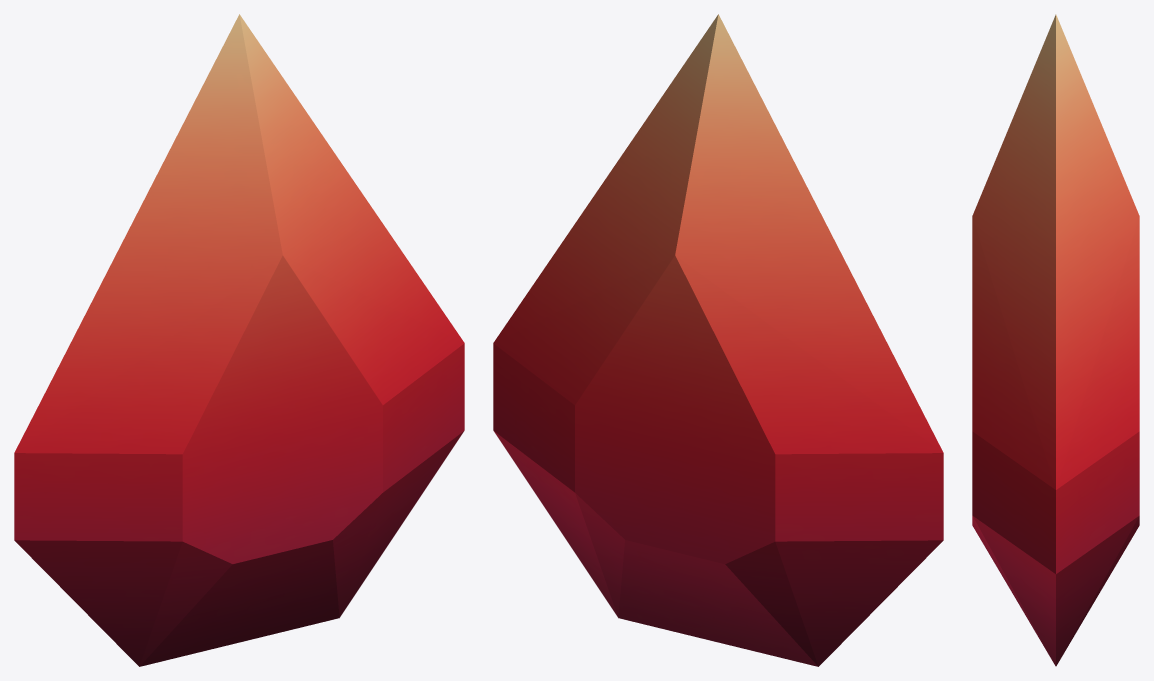
Rendered from gem_daily_2.dae.
3 views of the same model, side by side, from view 1: azimuth 30°, elevation 25°; view 2: azimuth 150°, elevation 25°; view 3: azimuth 270°, elevation 25° (orthographic). The views are drawn at different scales.
Visible parts, largest first — view 1: Gem8; view 2: Gem8; view 3: Gem8.
Boxes of the visible parts, bbox=[...] form: Gem8: bbox=[14, 14, 464, 666]; Gem8: bbox=[493, 14, 943, 666]; Gem8: bbox=[972, 14, 1139, 666].
Bounding box in the file's own units: 0.75 × 0.25 × 1.
